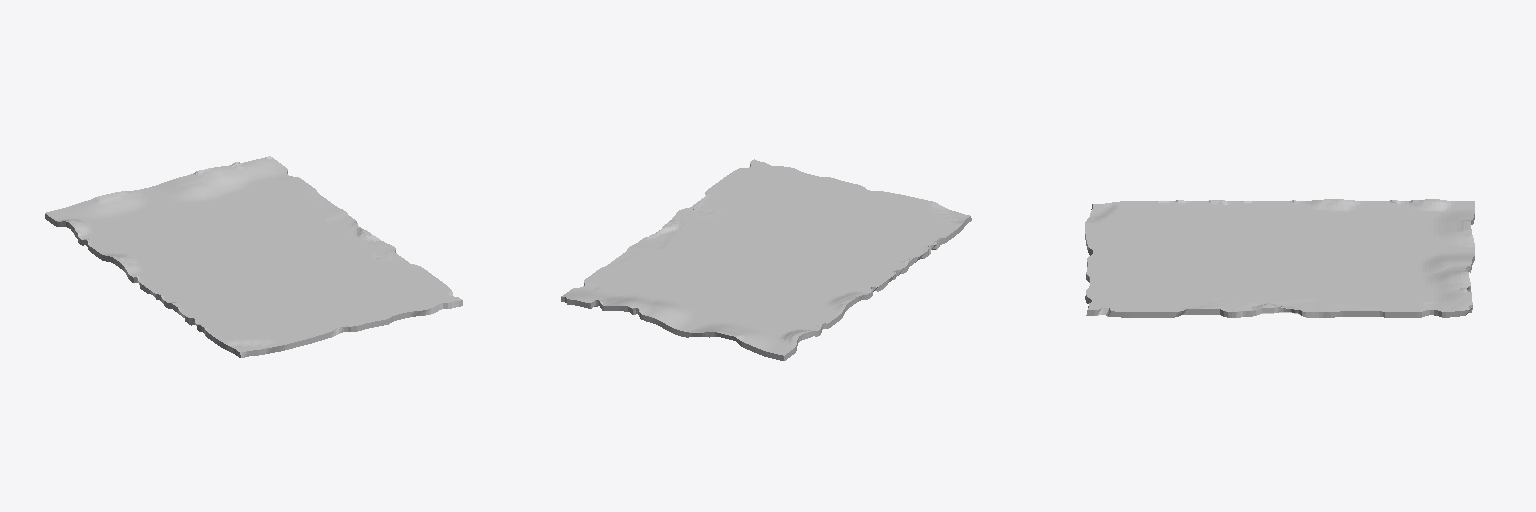
The model's file is woodenSign.obj.
The picture shows the model from 3 angles: view 1: azimuth 30°, elevation 25°; view 2: azimuth 150°, elevation 25°; view 3: azimuth 270°, elevation 25°; orthographic projection.
Visible parts, largest first — view 1: Plane_Plane.001; view 2: Plane_Plane.001; view 3: Plane_Plane.001.
Boxes of the visible parts, <box> form: Plane_Plane.001: <box>45,156,462,357</box>; Plane_Plane.001: <box>561,159,971,360</box>; Plane_Plane.001: <box>1085,199,1474,317</box>.
Bounding box in the file's own units: 2 × 0.1323 × 2.97.